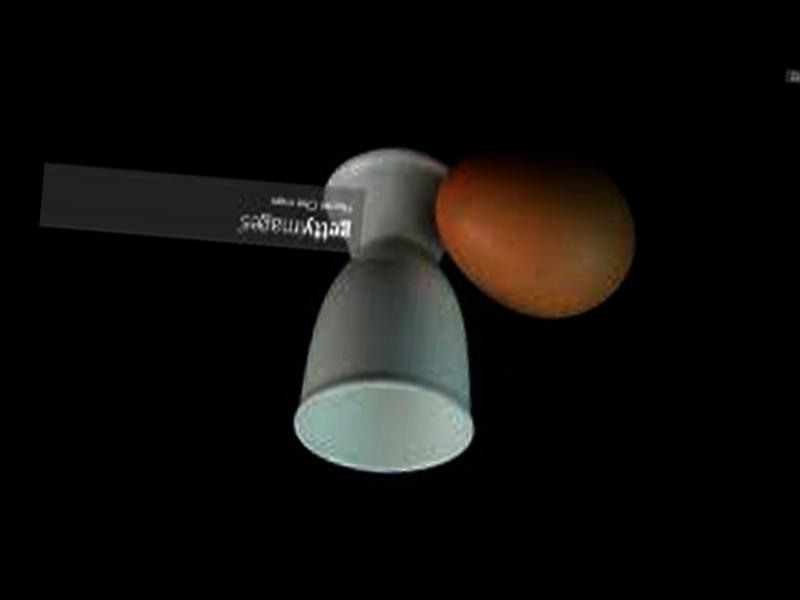Eggs: (424, 145, 640, 326)
